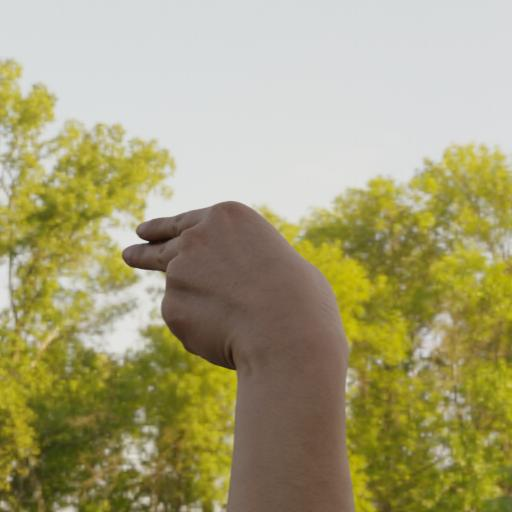H: (94, 185, 374, 455)
